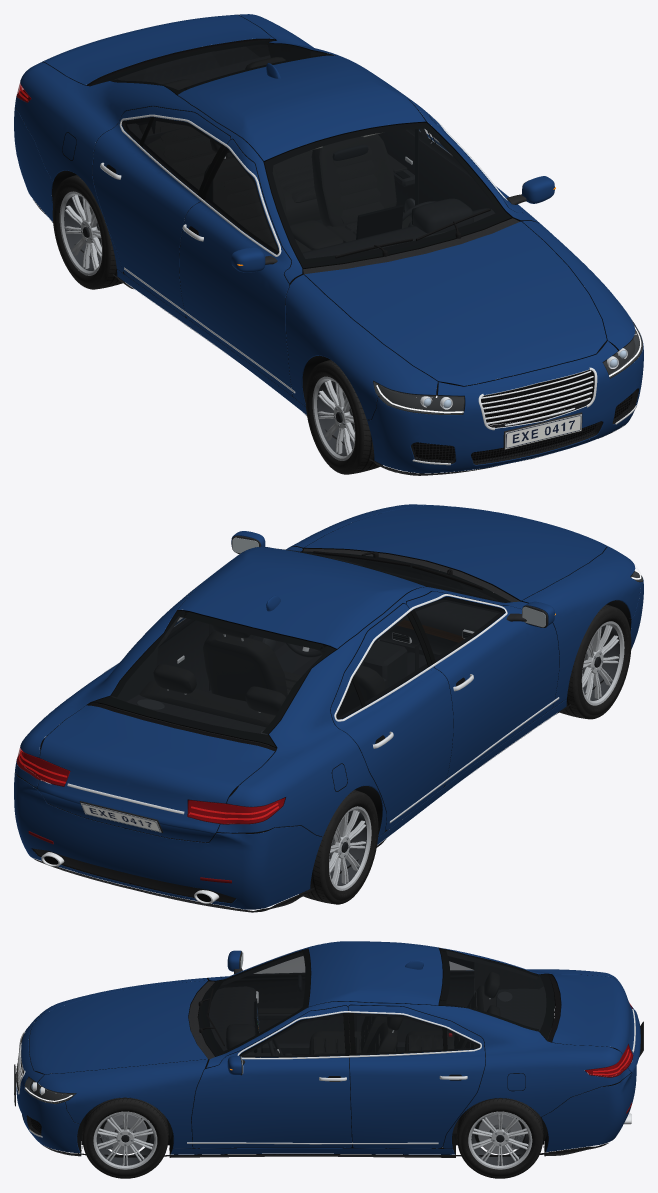
Rendered from executive-sedan.glb.
The picture shows the model from 3 angles, top to bottom: view 1: azimuth 30°, elevation 25°; view 2: azimuth 150°, elevation 25°; view 3: azimuth 270°, elevation 25°; orthographic projection. The views are drawn at different scales.
Visible parts, largest first — view 1: Body, Wheel_FR, Wheel_RR; view 2: Body, Wheel_RR, Wheel_FR; view 3: Body, Wheel_FL, Wheel_RL.
Boxes of the visible parts, box(x1,y1,x2,y2) form: Body: box(14, 14, 643, 475); Wheel_FR: box(305, 359, 383, 474); Wheel_RR: box(52, 175, 124, 289); Body: box(14, 504, 643, 912); Wheel_RR: box(299, 790, 378, 904); Wheel_FR: box(558, 604, 631, 719); Body: box(14, 941, 643, 1157); Wheel_FL: box(82, 1097, 168, 1178); Wheel_RL: box(457, 1098, 543, 1178).
Bounding box in the file's own units: 2.17 × 1.5 × 5.01.
59 materials, 12 textured.
